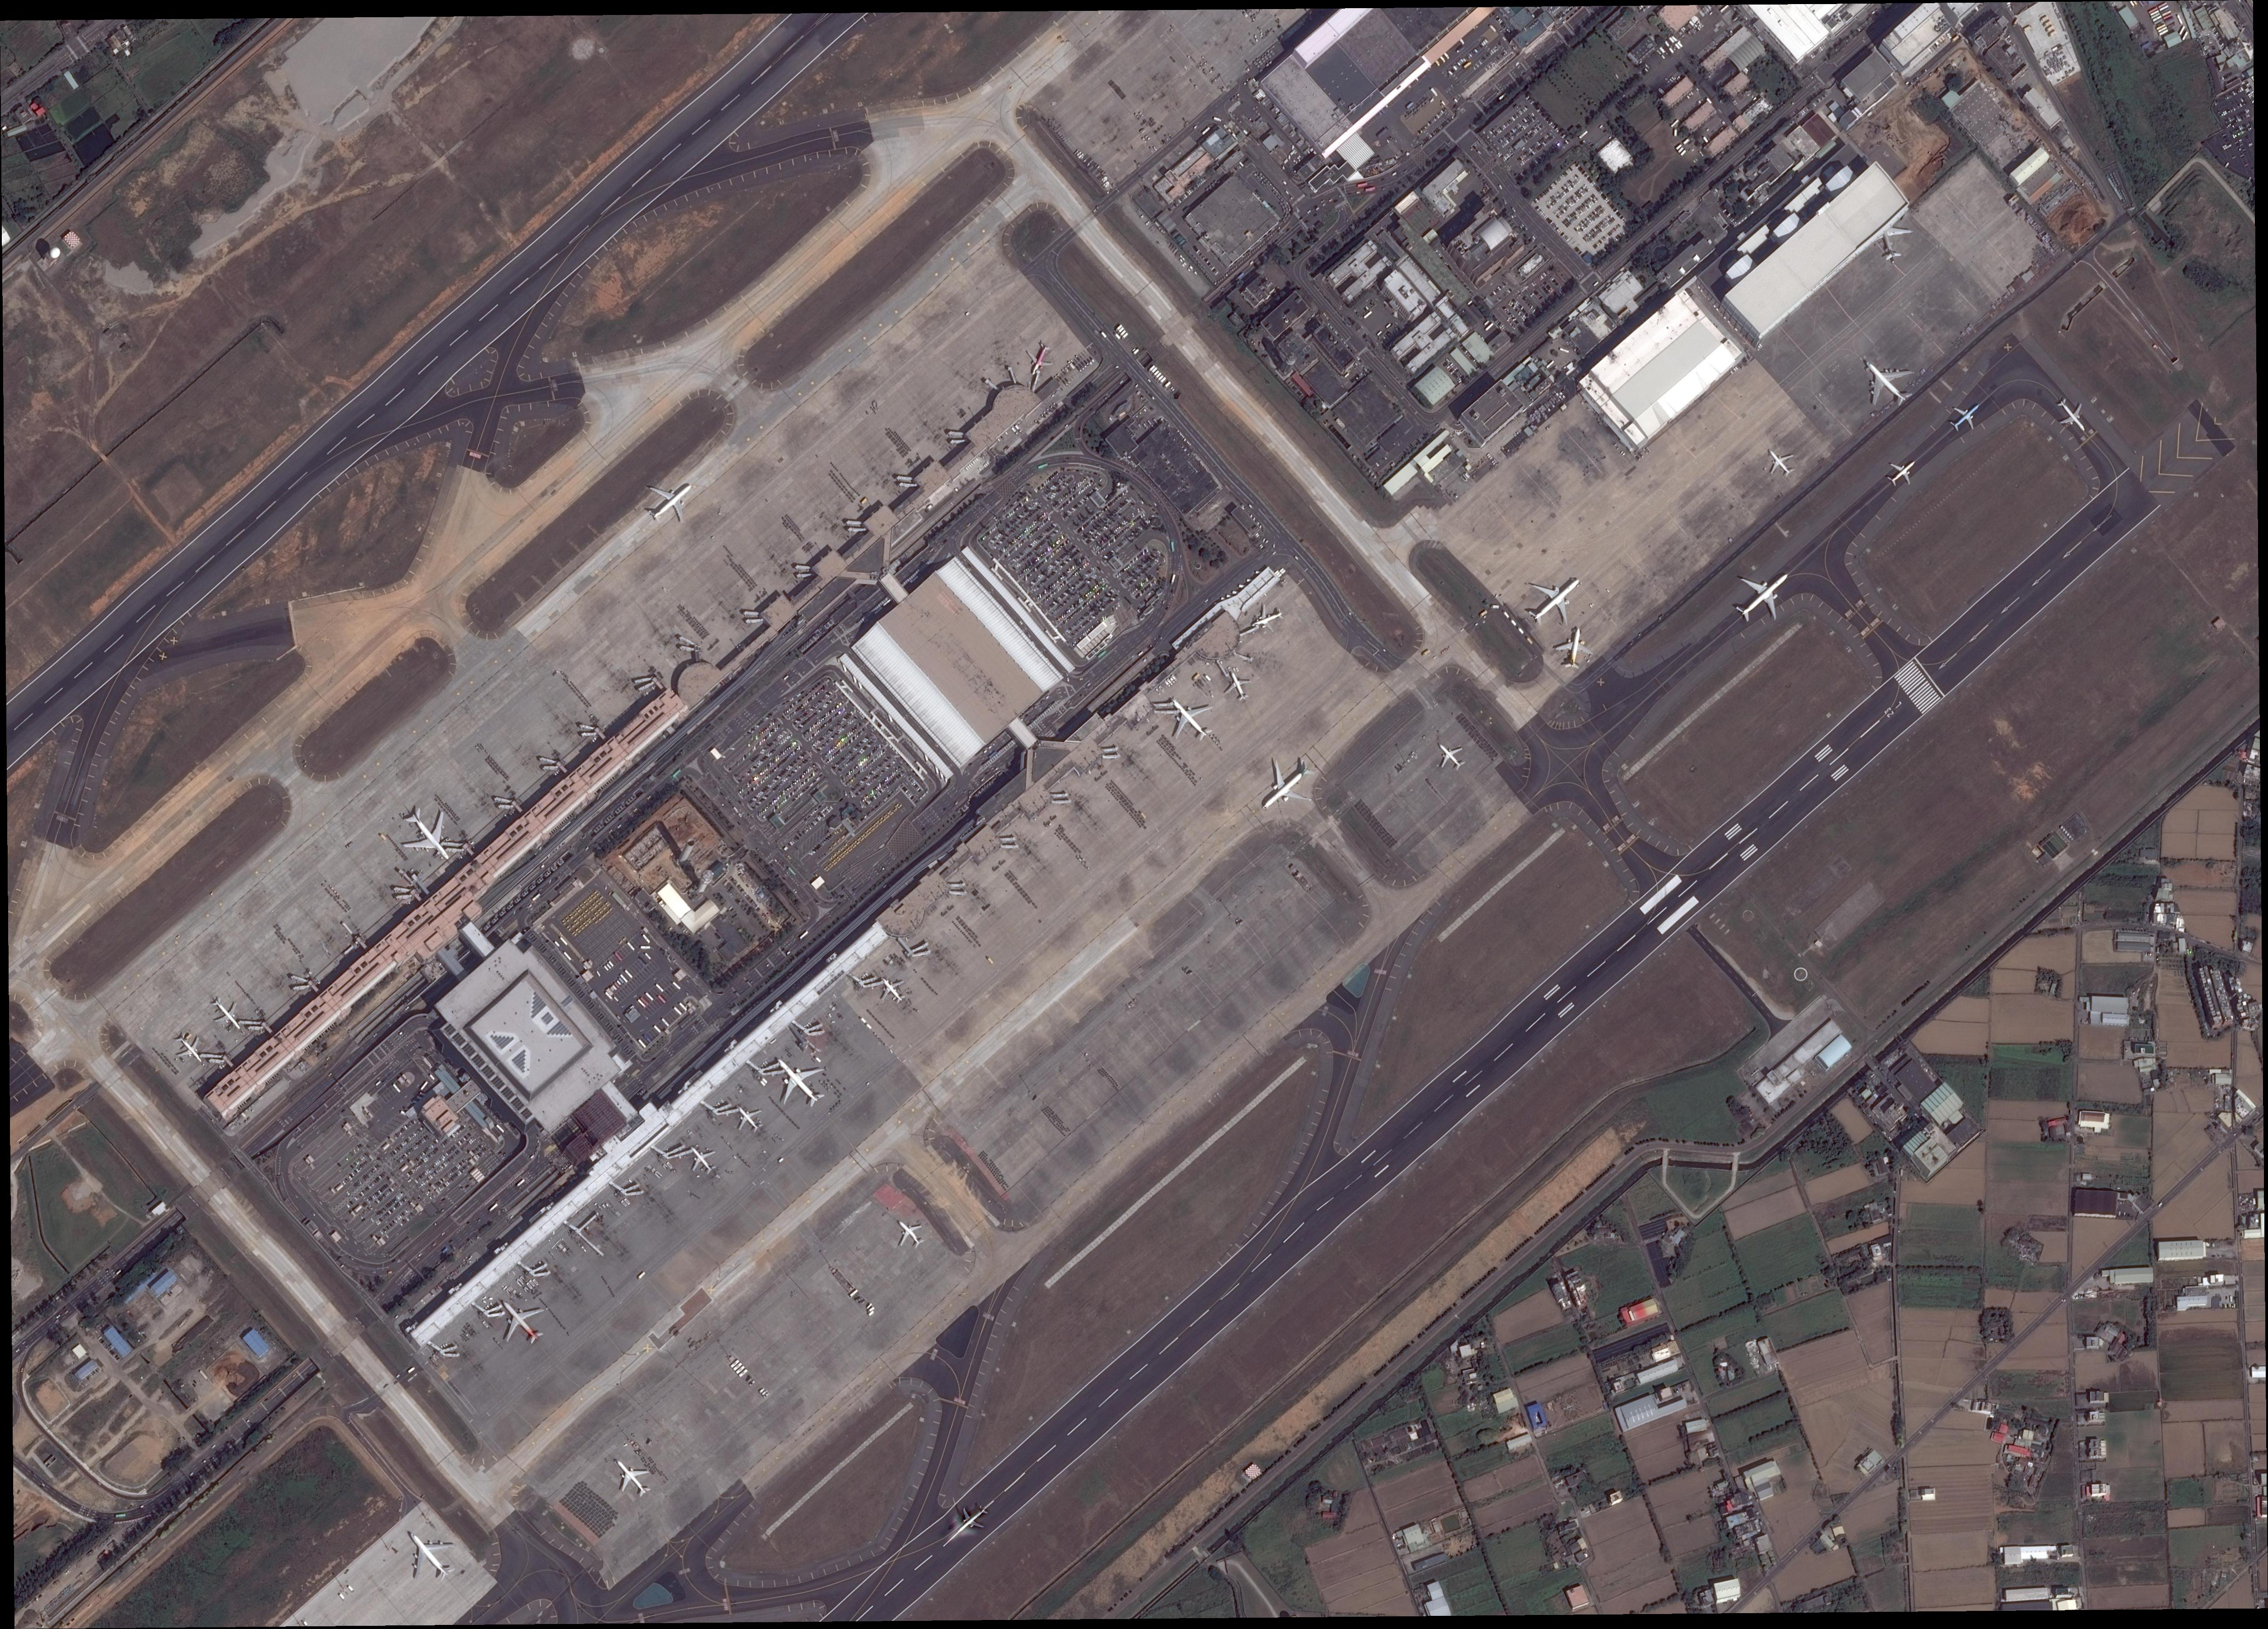plane: (760, 1040, 844, 1126), (1512, 564, 1596, 639), (1720, 559, 1803, 635), (1154, 681, 1231, 759), (389, 1516, 466, 1592), (1251, 748, 1326, 823), (389, 792, 460, 869), (488, 1288, 557, 1362), (1852, 348, 1918, 417), (635, 475, 700, 532), (603, 1449, 662, 1505), (937, 1498, 996, 1553), (1939, 394, 1993, 444), (200, 991, 252, 1040), (680, 1138, 725, 1187), (2049, 389, 2093, 438), (871, 968, 918, 1013), (1428, 734, 1474, 779), (1759, 440, 1804, 486), (167, 1026, 210, 1073), (887, 1211, 931, 1255), (1556, 628, 1598, 673), (1879, 452, 1923, 494), (727, 1096, 770, 1139), (1019, 335, 1060, 378), (1219, 666, 1256, 705), (1251, 603, 1286, 633)
